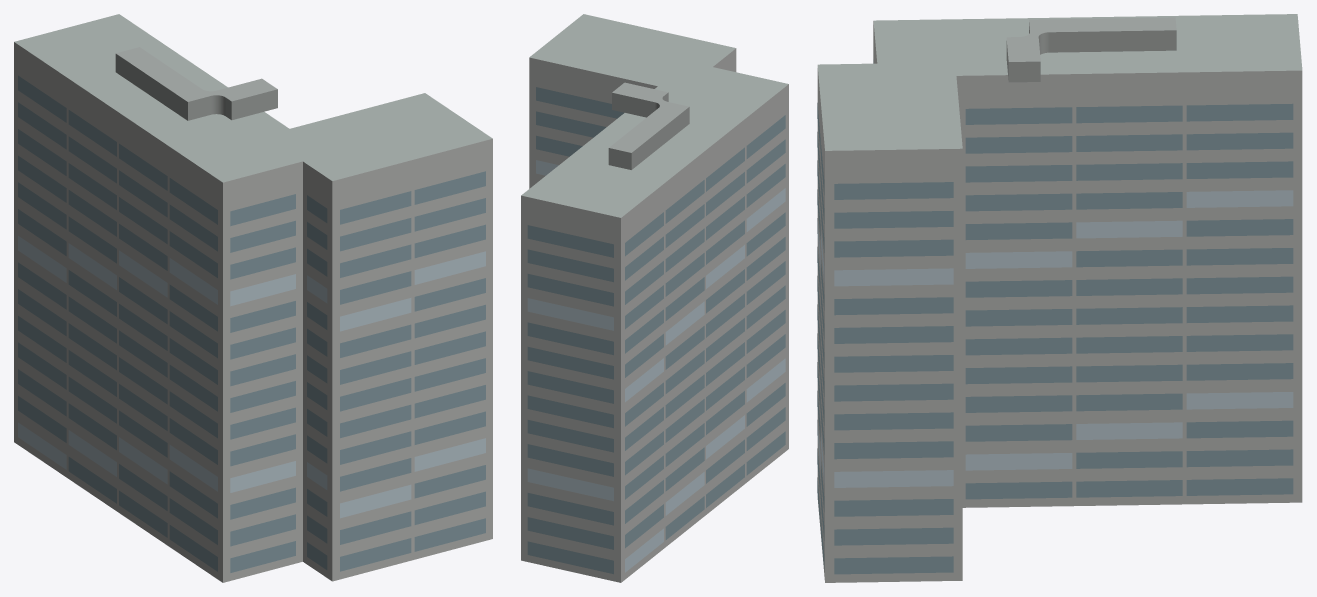
The model's file is apt-a15101509.glb.
3 renders of one model, left to right at view 1: azimuth 30°, elevation 25°; view 2: azimuth 150°, elevation 25°; view 3: azimuth 270°, elevation 25°, orthographic. The views are drawn at different scales.
Visible parts, largest first — view 1: apt-a15101509; view 2: apt-a15101509; view 3: apt-a15101509.
Part boxes in pixels (x1=…): apt-a15101509: x1=14, y1=14, x2=492, y2=582; apt-a15101509: x1=521, y1=14, x2=788, y2=582; apt-a15101509: x1=817, y1=14, x2=1302, y2=582.
Size of the model in its own units: 29.24 by 45 by 43.74.
